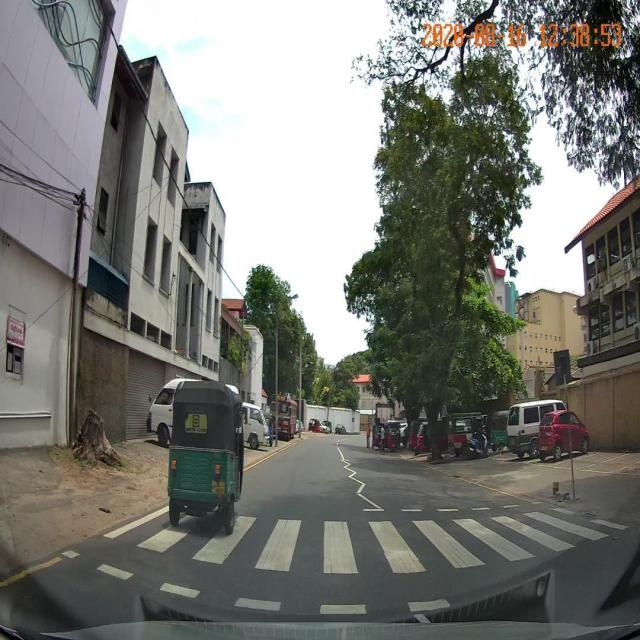Liniya 1: (243, 441, 298, 472)
Perehod: (101, 502, 632, 575)
